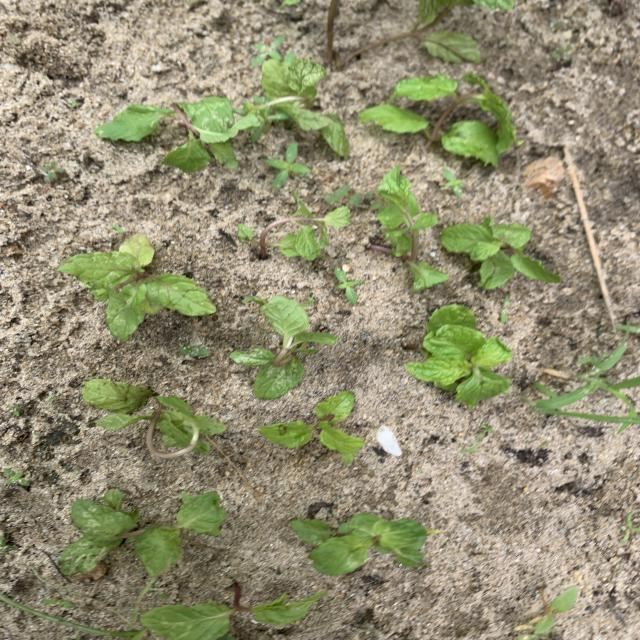crop: (58, 236, 214, 339), (60, 489, 227, 577), (360, 74, 519, 164), (231, 51, 349, 157), (81, 381, 226, 459), (231, 296, 336, 397), (405, 306, 511, 406), (96, 97, 238, 170), (144, 585, 317, 639), (373, 167, 447, 289), (292, 514, 435, 575), (442, 216, 561, 287), (238, 193, 349, 259), (259, 392, 363, 462)
weed: (534, 340, 640, 414), (1, 595, 141, 639), (516, 587, 577, 639), (266, 143, 309, 187), (248, 108, 289, 143), (253, 36, 285, 66), (335, 268, 362, 303), (325, 187, 362, 205), (621, 513, 639, 542), (443, 169, 463, 194), (5, 468, 28, 486), (43, 162, 63, 180), (179, 346, 210, 357), (553, 47, 571, 60), (1, 536, 15, 549), (479, 425, 491, 438), (7, 406, 19, 415), (111, 224, 123, 232), (305, 298, 313, 305)
